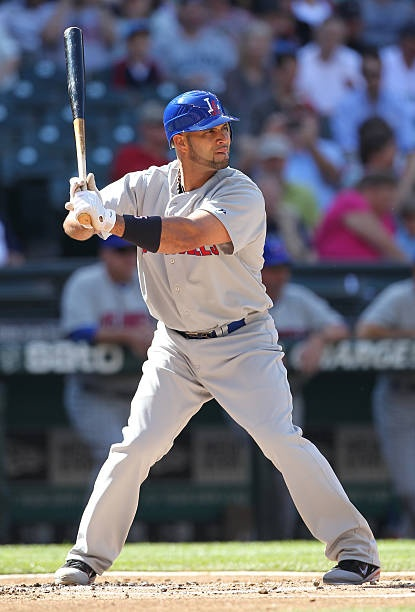bita: (63, 27, 97, 231)
